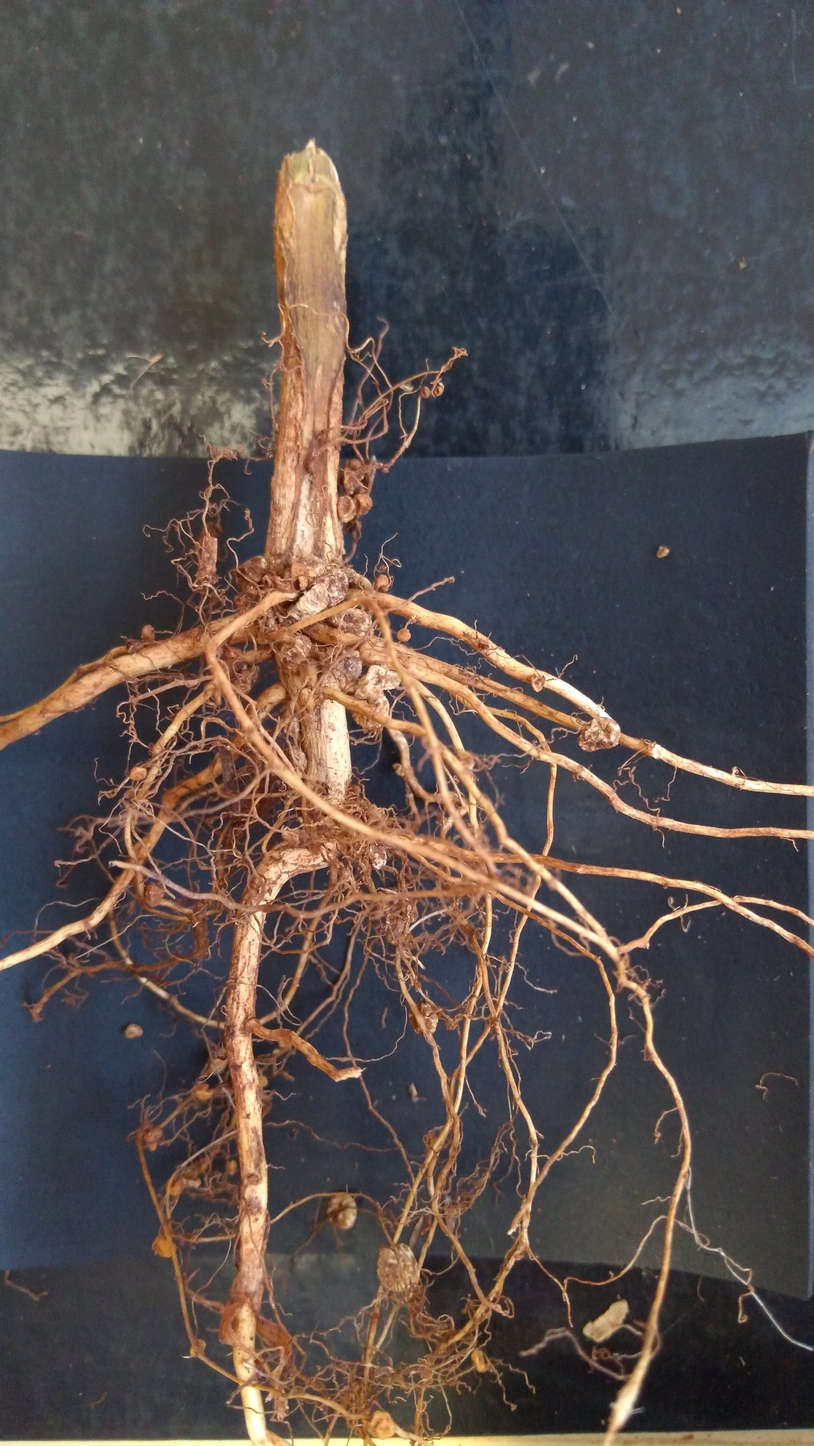nodule: (373, 1240, 429, 1297), (350, 661, 404, 706), (316, 644, 365, 692), (283, 581, 330, 623), (327, 604, 380, 641), (576, 715, 623, 753), (229, 554, 272, 595), (350, 691, 392, 732), (278, 630, 316, 671), (325, 1191, 362, 1232), (363, 1406, 399, 1442), (338, 456, 370, 495), (321, 566, 350, 607), (410, 1002, 440, 1037), (282, 742, 310, 778), (232, 664, 261, 695), (252, 600, 278, 633), (142, 1122, 170, 1152), (150, 1233, 178, 1259), (383, 917, 407, 947), (142, 878, 165, 908), (336, 494, 357, 526), (469, 1344, 490, 1376), (284, 711, 305, 742), (652, 539, 674, 566), (367, 844, 389, 871), (353, 491, 374, 518), (222, 645, 245, 669), (399, 898, 420, 924), (525, 673, 550, 694), (139, 620, 160, 645), (193, 1081, 215, 1103), (163, 1175, 188, 1194), (372, 573, 392, 596), (122, 1021, 145, 1041), (393, 627, 415, 646), (392, 758, 409, 780), (190, 1338, 206, 1360), (210, 1057, 228, 1076), (128, 765, 148, 781), (224, 1158, 239, 1174), (432, 385, 445, 397), (419, 385, 431, 398)
